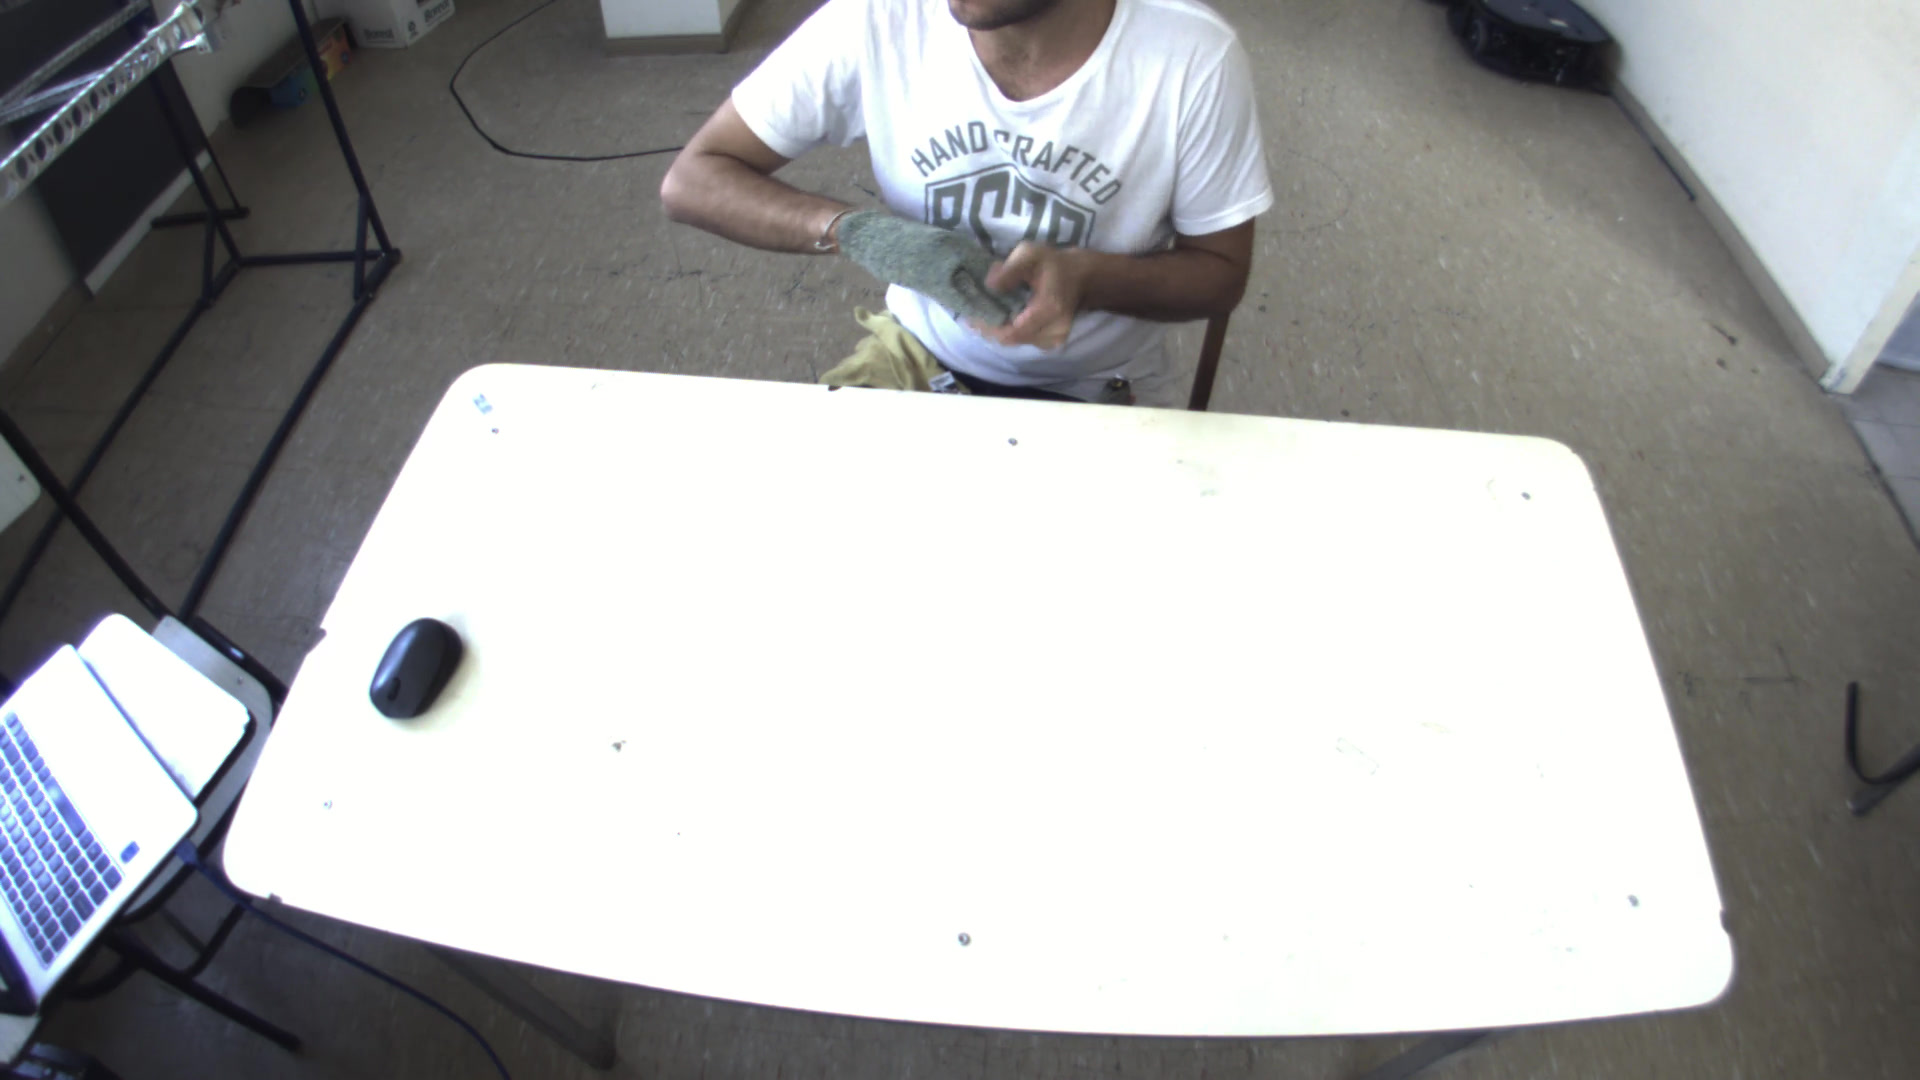hand: (857, 196, 1029, 342), (973, 229, 1085, 351)
